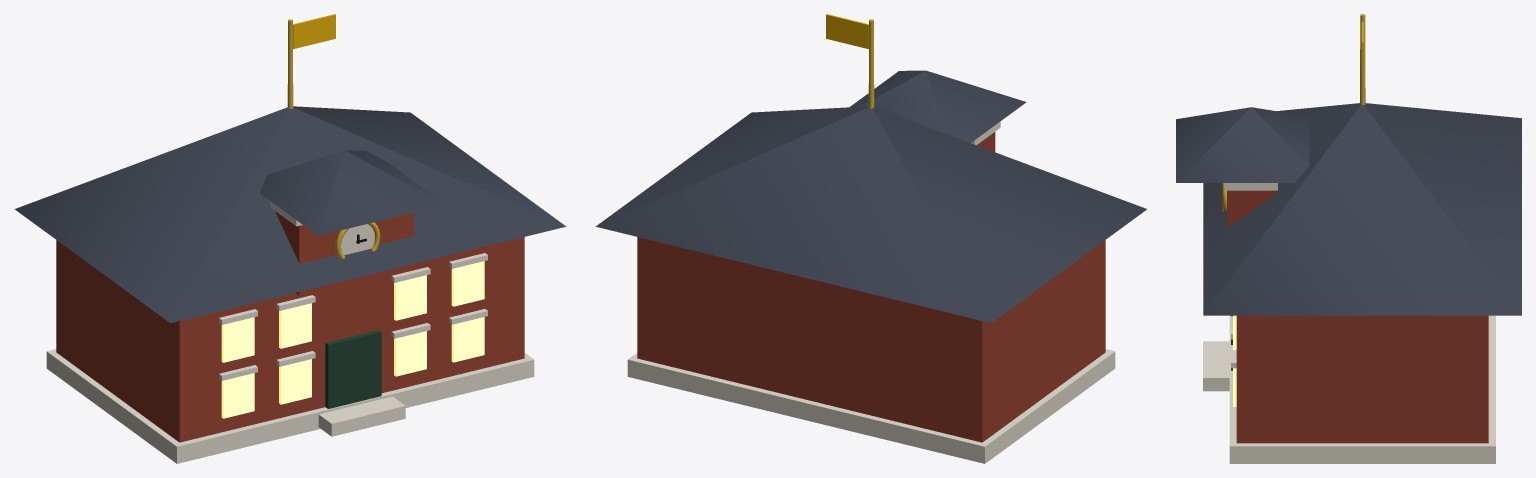
File: school.glb
The picture shows the model from 3 angles, left to right: view 1: azimuth 30°, elevation 25°; view 2: azimuth 150°, elevation 25°; view 3: azimuth 270°, elevation 25°; orthographic projection. The views are drawn at different scales.
Visible parts, largest first — view 1: school; view 2: school; view 3: school.
Part boxes in pixels (x1,y1,x2,y2): school: [15, 14, 565, 463]; school: [596, 14, 1146, 463]; school: [1176, 14, 1521, 463].
Size of the model in its own units: 4.82 by 4.1 by 3.57.
